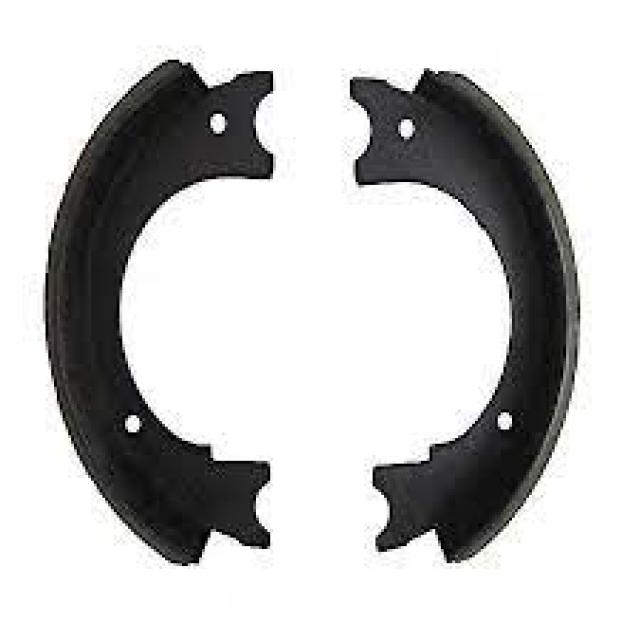brake_pad: (30, 41, 300, 574), (338, 57, 583, 565)
